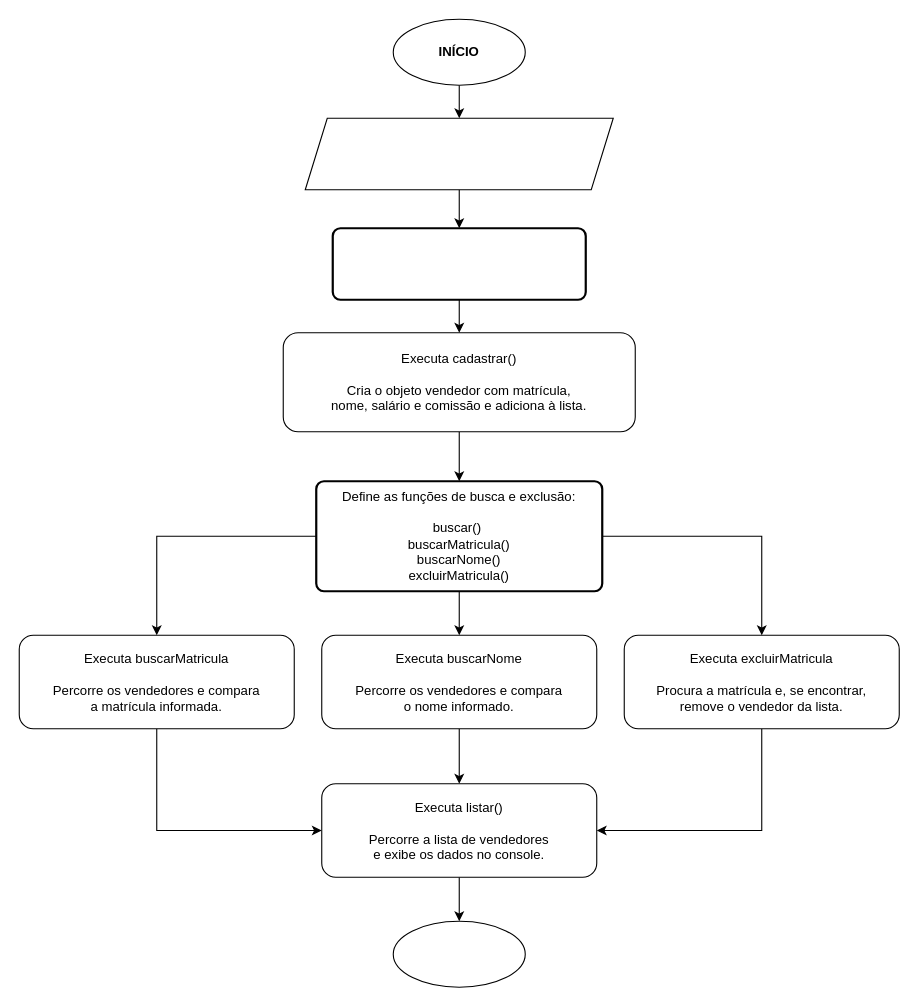
This 919x1007 diagram has some shape labels left out. The box of each missing label's shape, as (x1, y1, x2, y2) in pixels:
Carrega a lista de vendedores do arquivo mockup.vendedores: (304, 117, 613, 190)
Define as funções cadastrar() e listar(): (331, 227, 586, 300)
FIM: (392, 920, 525, 987)
